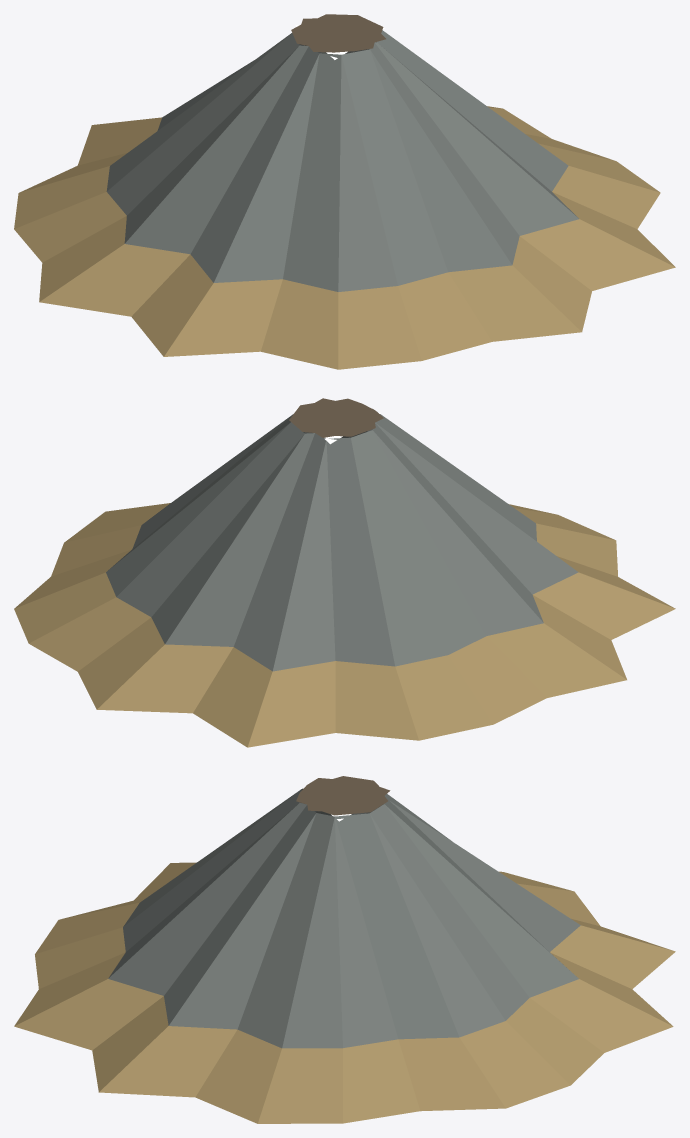
The model's file is coast-volcano.lod1.glb.
The picture shows the model from 3 angles, top to bottom: view 1: azimuth 30°, elevation 25°; view 2: azimuth 150°, elevation 25°; view 3: azimuth 270°, elevation 25°; orthographic projection. The views are drawn at different scales.
Visible parts, largest first — view 1: coast-volcano__body; view 2: coast-volcano__body; view 3: coast-volcano__body.
Part boxes in pixels (x1=…): coast-volcano__body: x1=14, y1=14, x2=675, y2=369; coast-volcano__body: x1=14, y1=398, x2=675, y2=747; coast-volcano__body: x1=14, y1=776, x2=675, y2=1123.
Size of the model in its own units: 14.55 by 4.7 by 14.58.
